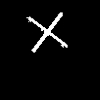single_crochet: (27, 13, 66, 51)
